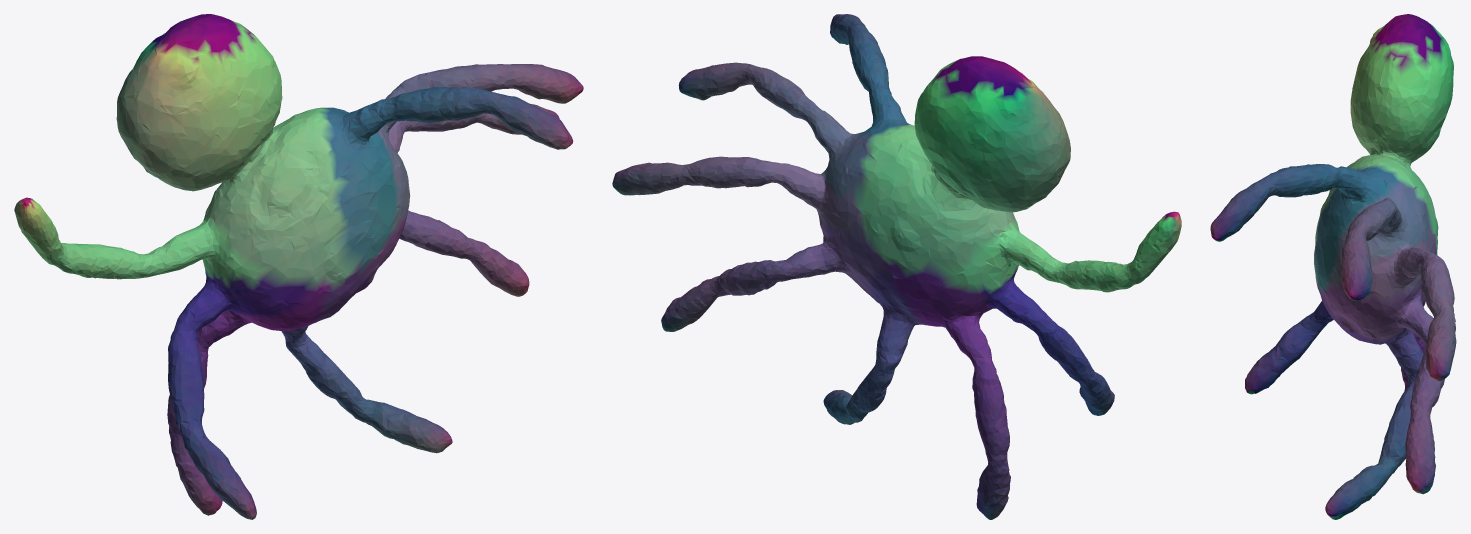
File: spider-5.off.obj
3 views of the same model, side by side, from view 1: azimuth 30°, elevation 25°; view 2: azimuth 150°, elevation 25°; view 3: azimuth 270°, elevation 25° (orthographic). The views are drawn at different scales.
Size of the model in its own units: 1.69 by 1.39 by 0.6947.
